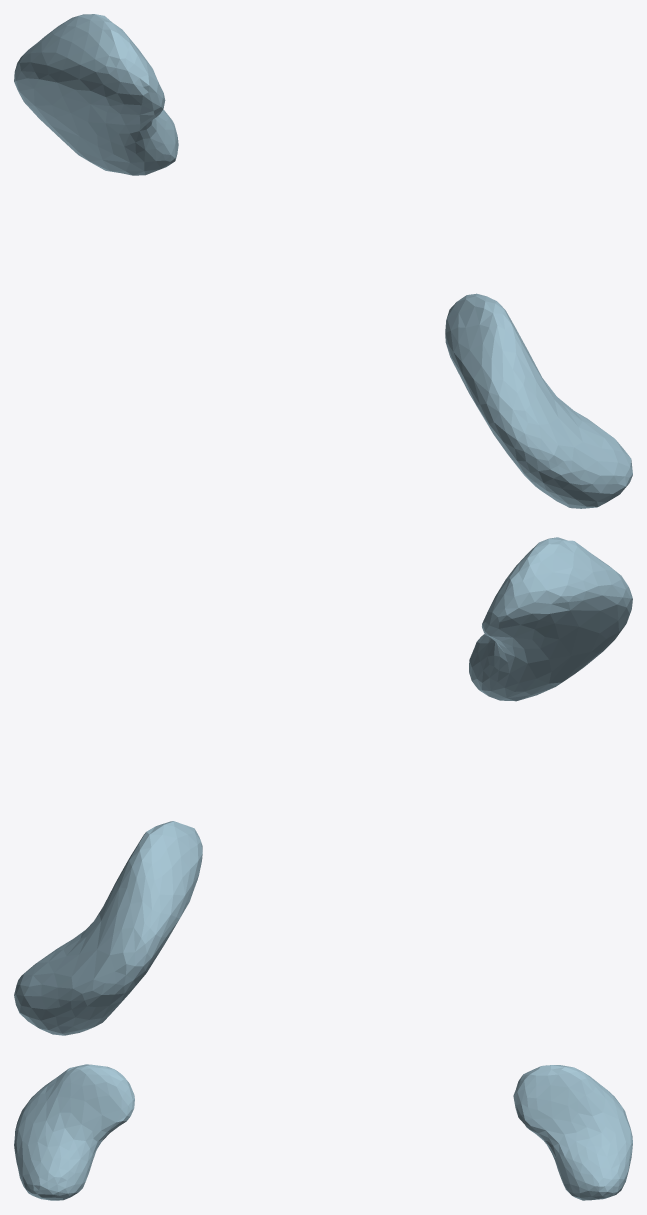
The picture shows the model from 3 angles, top to bottom: view 1: azimuth 30°, elevation 25°; view 2: azimuth 150°, elevation 25°; view 3: azimuth 270°, elevation 25°; orthographic projection. The views are drawn at different scales.
Parts seen in each view (by area): view 1: 23.obj; view 2: 23.obj; view 3: 23.obj.
Boxes of the visible parts, box(x1,y1,x2,y2) form: 23.obj: box(14, 14, 632, 508); 23.obj: box(14, 537, 632, 1035); 23.obj: box(14, 1064, 632, 1200).
Bounding box in the file's own units: 828 × 1025 × 5048.
